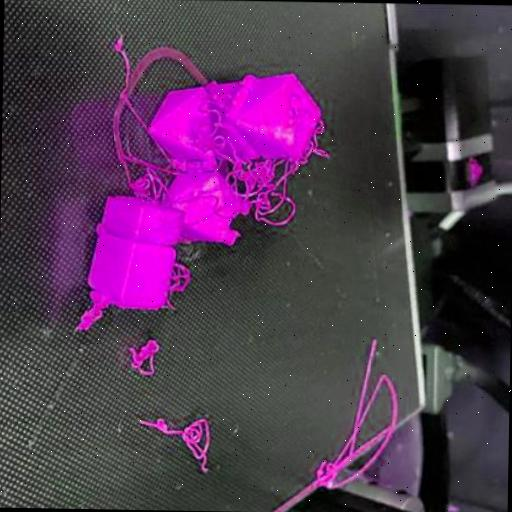spaghetti: (198, 74, 332, 226), (316, 339, 400, 490), (138, 412, 214, 474), (131, 165, 176, 203)
